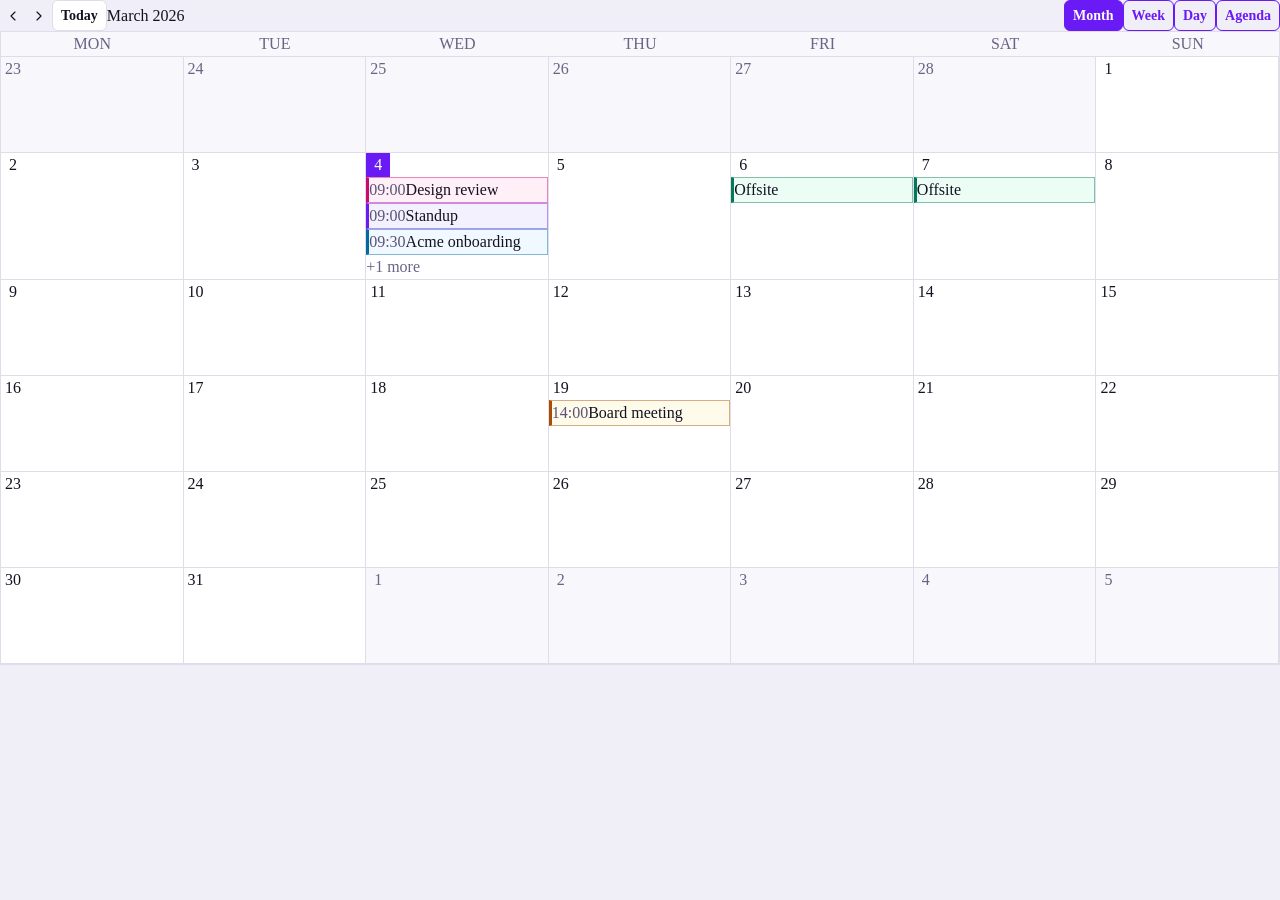
Test: SchedulerComponent › opens an event in Paint’s drawer, without choosing its day
The image size is (1280, 900).
Click the button with class "ds-scheduler__chip" showing "09:00 Design review" at (457, 190), box x1=366 y1=177 x2=548 y2=203
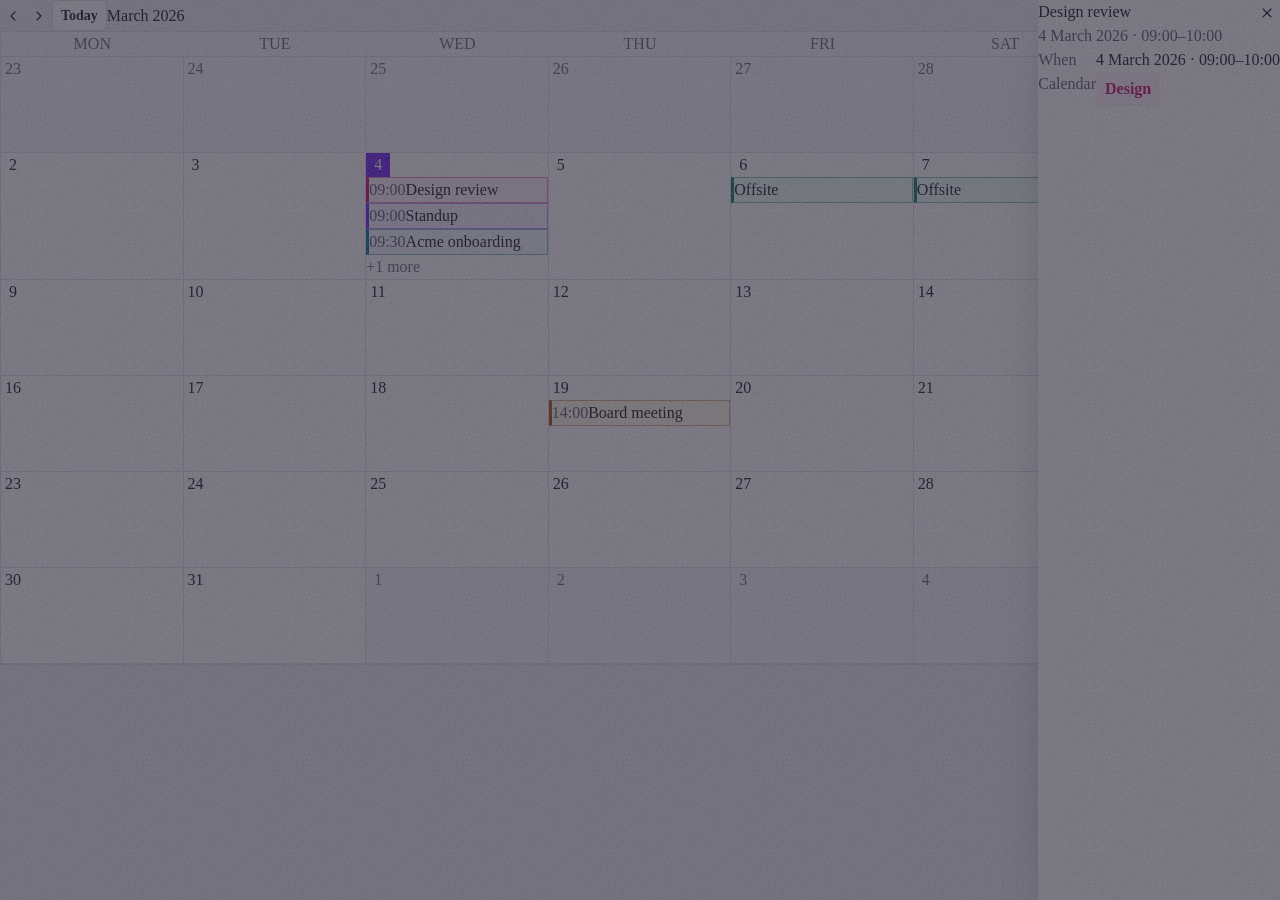
Result: the dialog shows "Design review" at x1=1038 y1=3 x2=1131 y2=20
Result: the dialog shows "Calendar" at x1=1038 y1=75 x2=1096 y2=92
